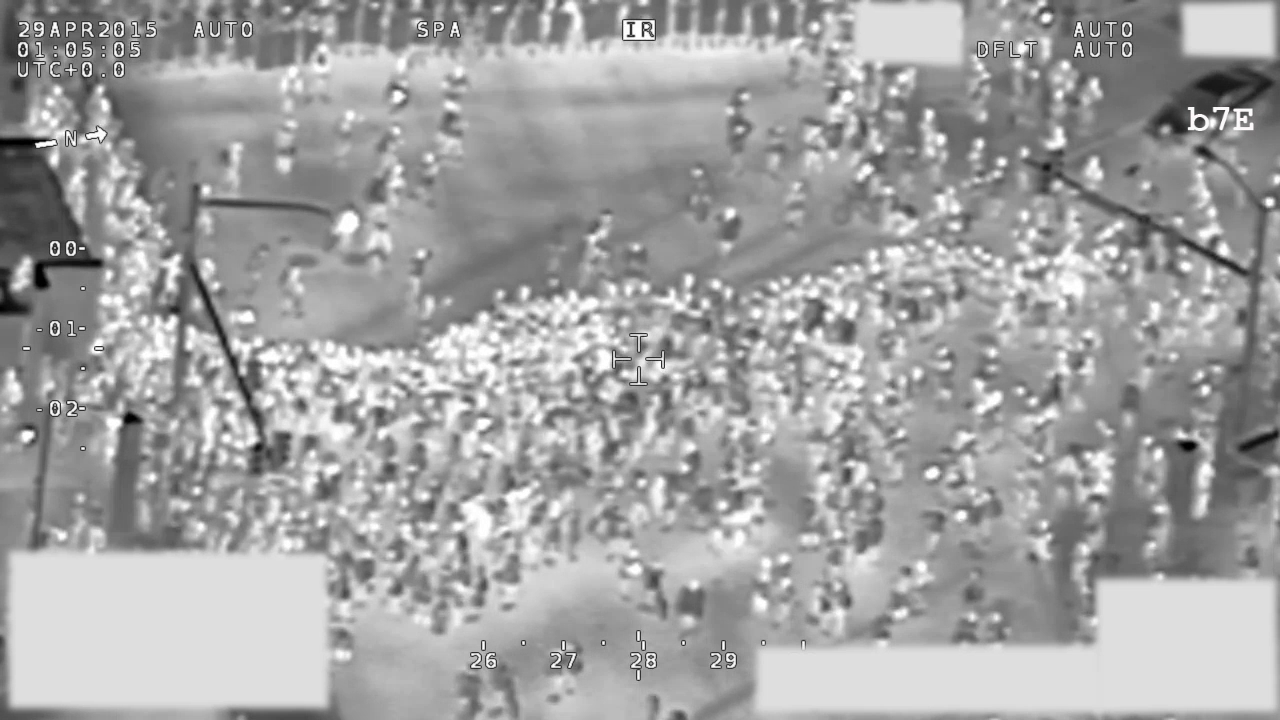vehicle: (1143, 65, 1277, 167)
